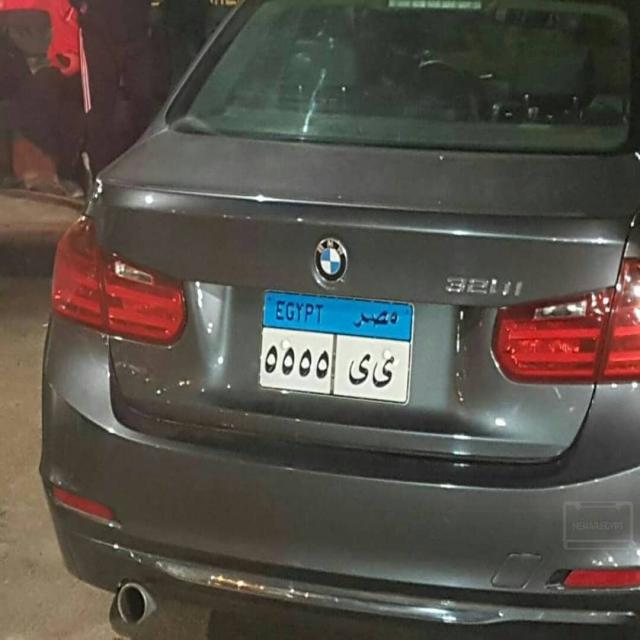License Plate: (256, 288, 416, 410)
